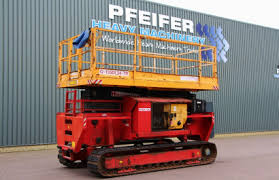Scissor Lift: (57, 27, 218, 179)
